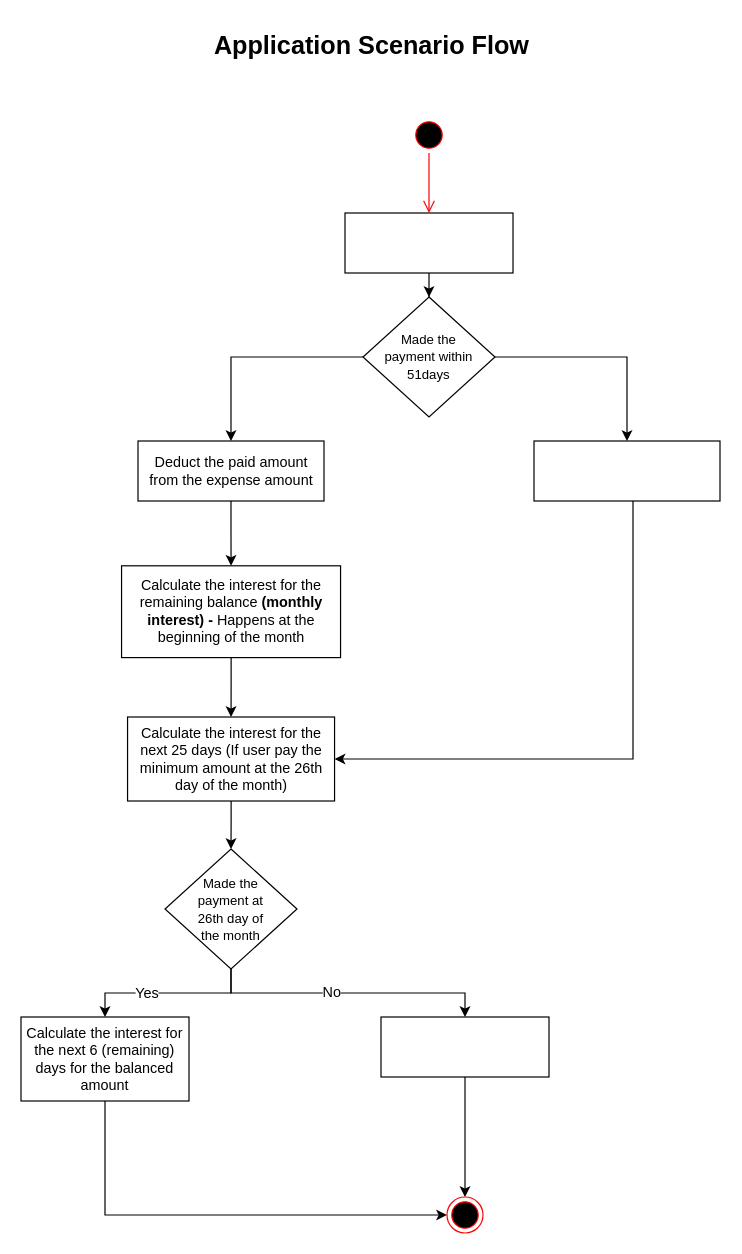
Image size: 742x1254. Some labels were removed from this diagram. Each missing label, with the centre of its shape:
"Calculate the interest for the month (30 days)" belongs at [464,1046].
"Calculate the interest for the total expense amount" belongs at [626,470].
"Made an expense" belongs at [428,242].
